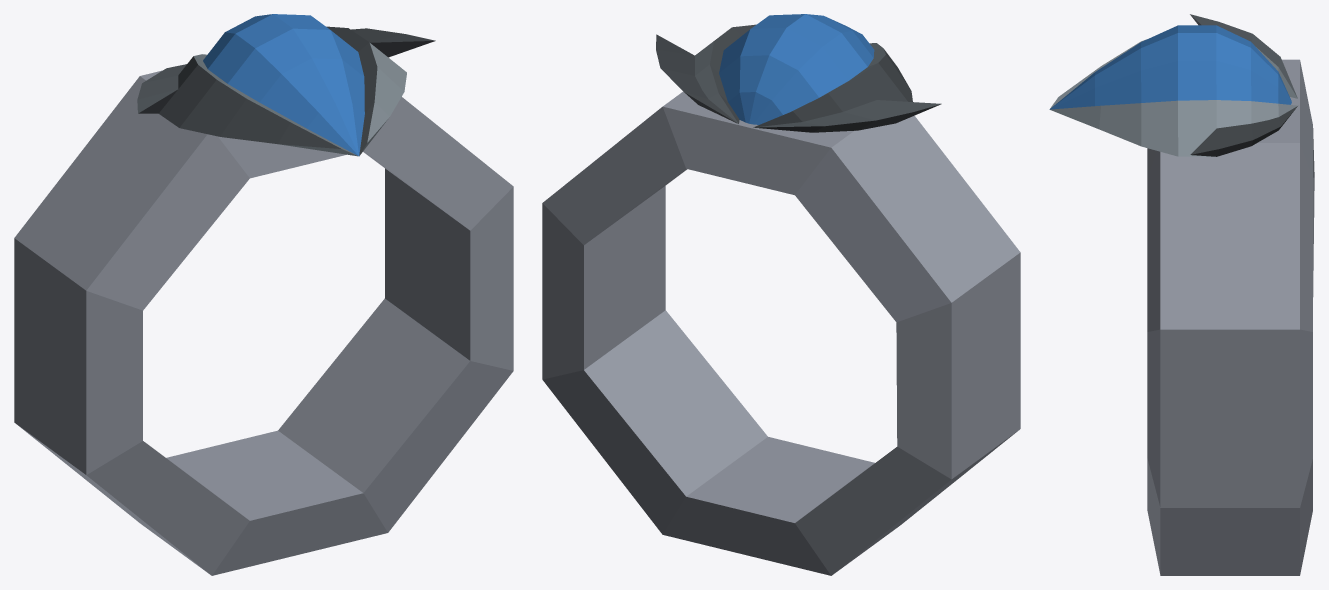
File: Item_Ring_09.fbx
3 views of the same model, side by side, from view 1: azimuth 30°, elevation 25°; view 2: azimuth 150°, elevation 25°; view 3: azimuth 270°, elevation 25° (orthographic). The views are drawn at different scales.
Parts seen in each view (by area): view 1: Lera_Item_Ring_09; view 2: Lera_Item_Ring_09; view 3: Lera_Item_Ring_09.
Part boxes in pixels (x1,y1,x2,y2): Lera_Item_Ring_09: [14, 14, 513, 575]; Lera_Item_Ring_09: [542, 14, 1020, 575]; Lera_Item_Ring_09: [1049, 14, 1314, 575].
Size of the model in its own units: 677 by 785 by 376.
